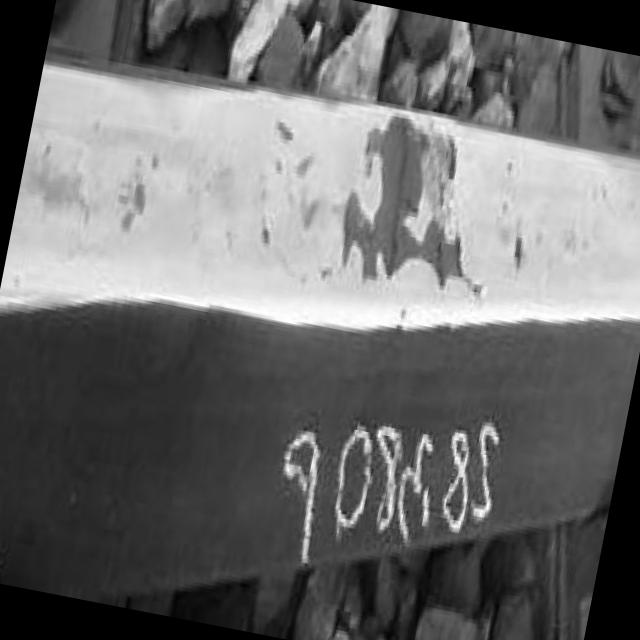defective: (0, 14, 619, 563)
